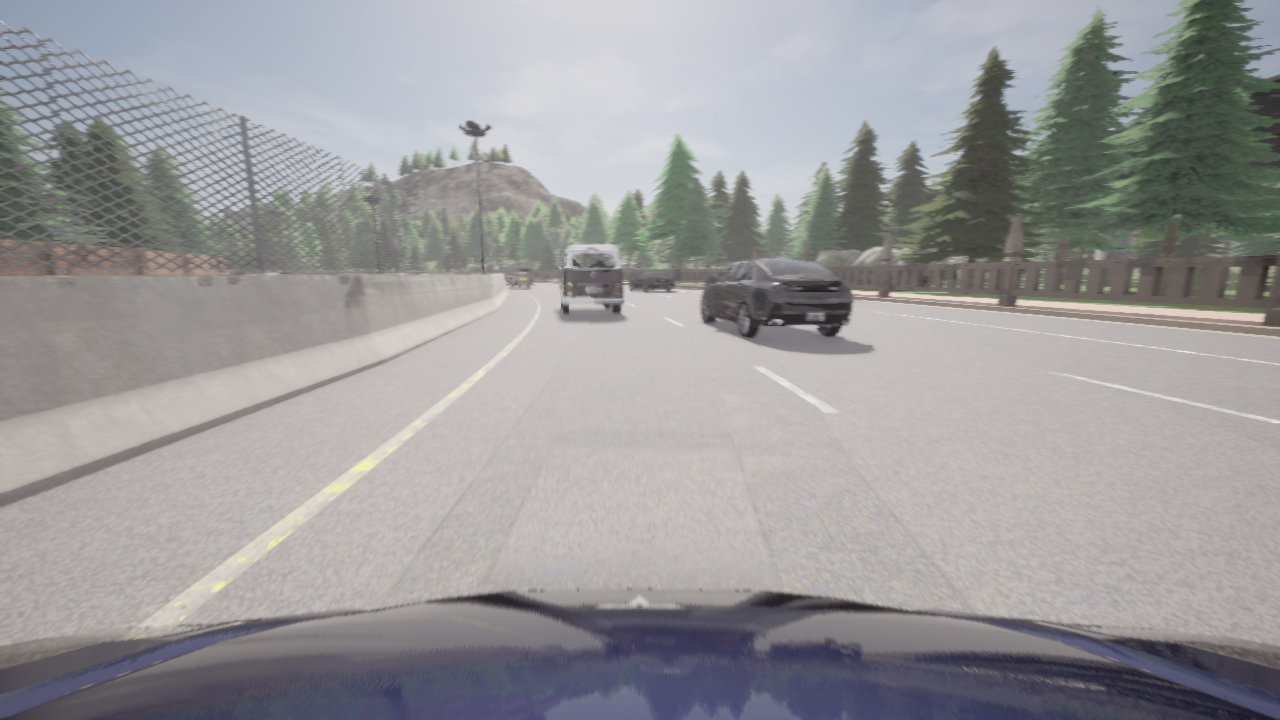cyclist: (0, 588, 1279, 719), (701, 257, 852, 337), (554, 243, 624, 314), (629, 272, 675, 291), (508, 267, 533, 284), (511, 271, 529, 287)
